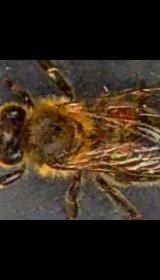varroa_mite: (104, 102, 138, 125)
